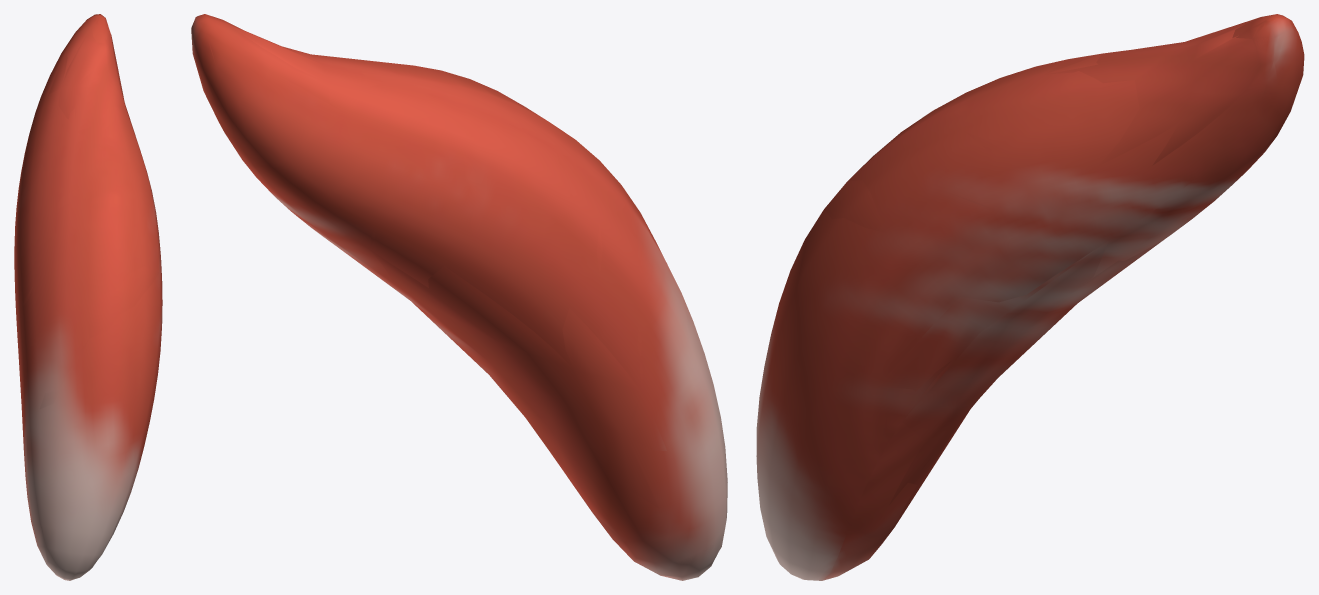
Rendered from R Rectus Femoris.fbx.
3 views of the same model, side by side, from view 1: azimuth 30°, elevation 25°; view 2: azimuth 150°, elevation 25°; view 3: azimuth 270°, elevation 25° (orthographic). The views are drawn at different scales.
Visible parts, largest first — view 1: R Rectus Femoris, R Rectus Femoris low; view 2: R Rectus Femoris, R Rectus Femoris low; view 3: R Rectus Femoris, R Rectus Femoris low.
Part boxes in pixels (<box>): R Rectus Femoris: <box>14,14,162,580</box>; R Rectus Femoris low: <box>15,14,158,575</box>; R Rectus Femoris: <box>191,14,727,580</box>; R Rectus Femoris low: <box>195,14,714,579</box>; R Rectus Femoris: <box>756,14,1304,580</box>; R Rectus Femoris low: <box>791,16,1289,579</box>.
Size of the model in its own units: 6.58 by 12.99 by 9.22.
